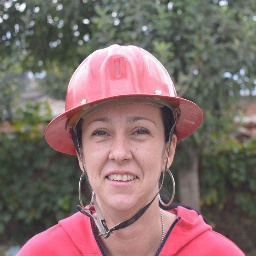helmet: (43, 45, 211, 148)
person: (38, 49, 214, 254)
